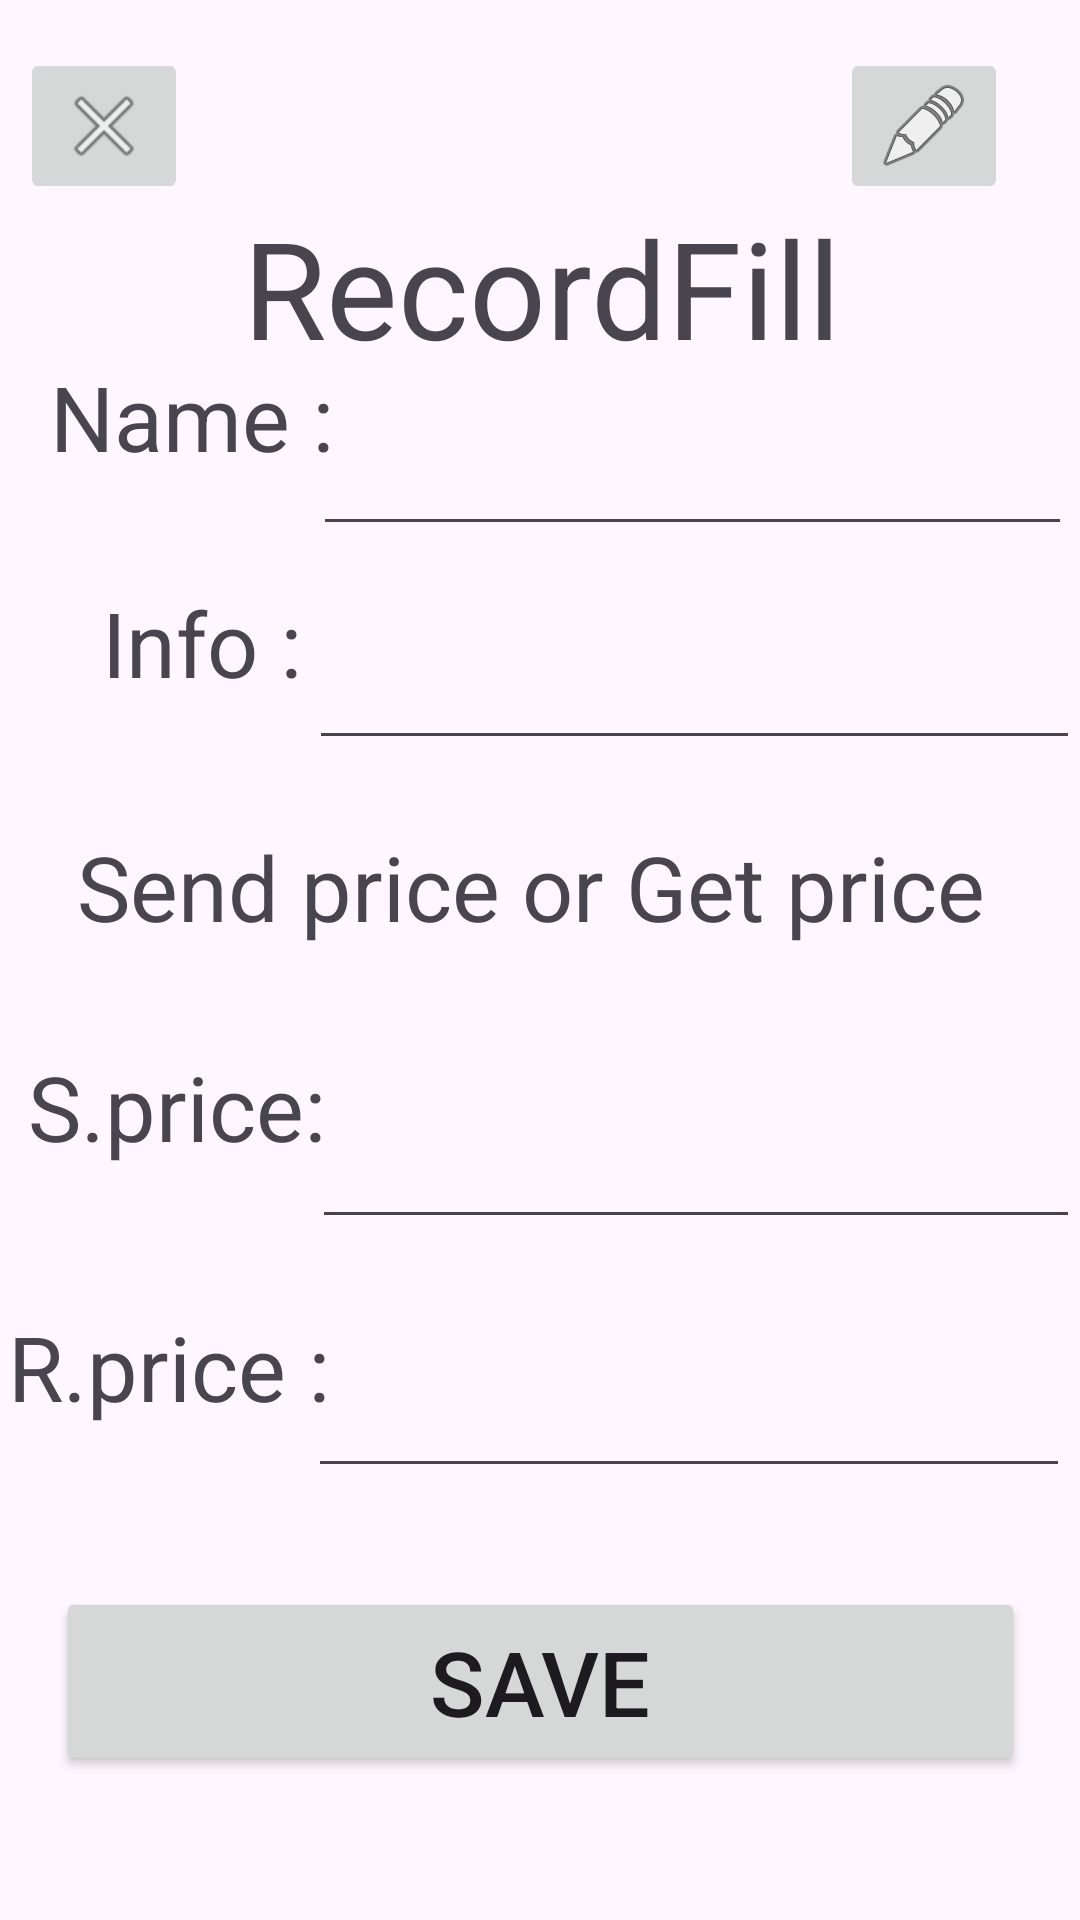

Named icons in this screenshot (1080x1920) and their centers, (x=x, y=y):
close clear cancel: (x=104, y=126)
edit: (x=924, y=126)
